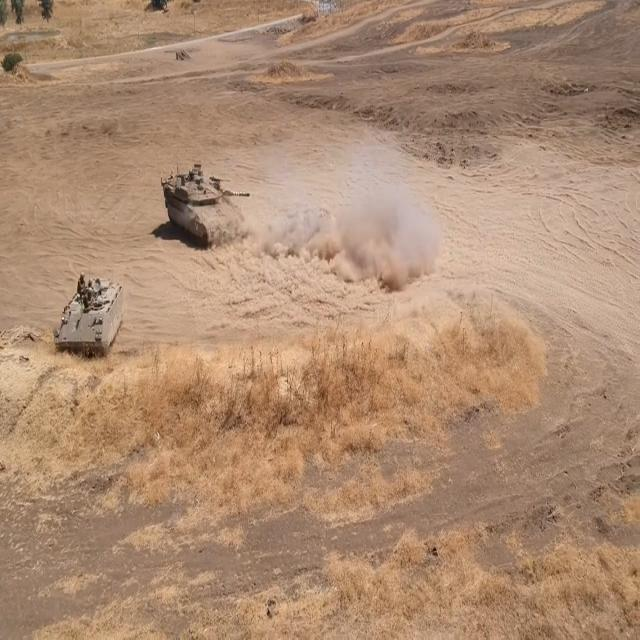tank: (159, 160, 251, 251)
